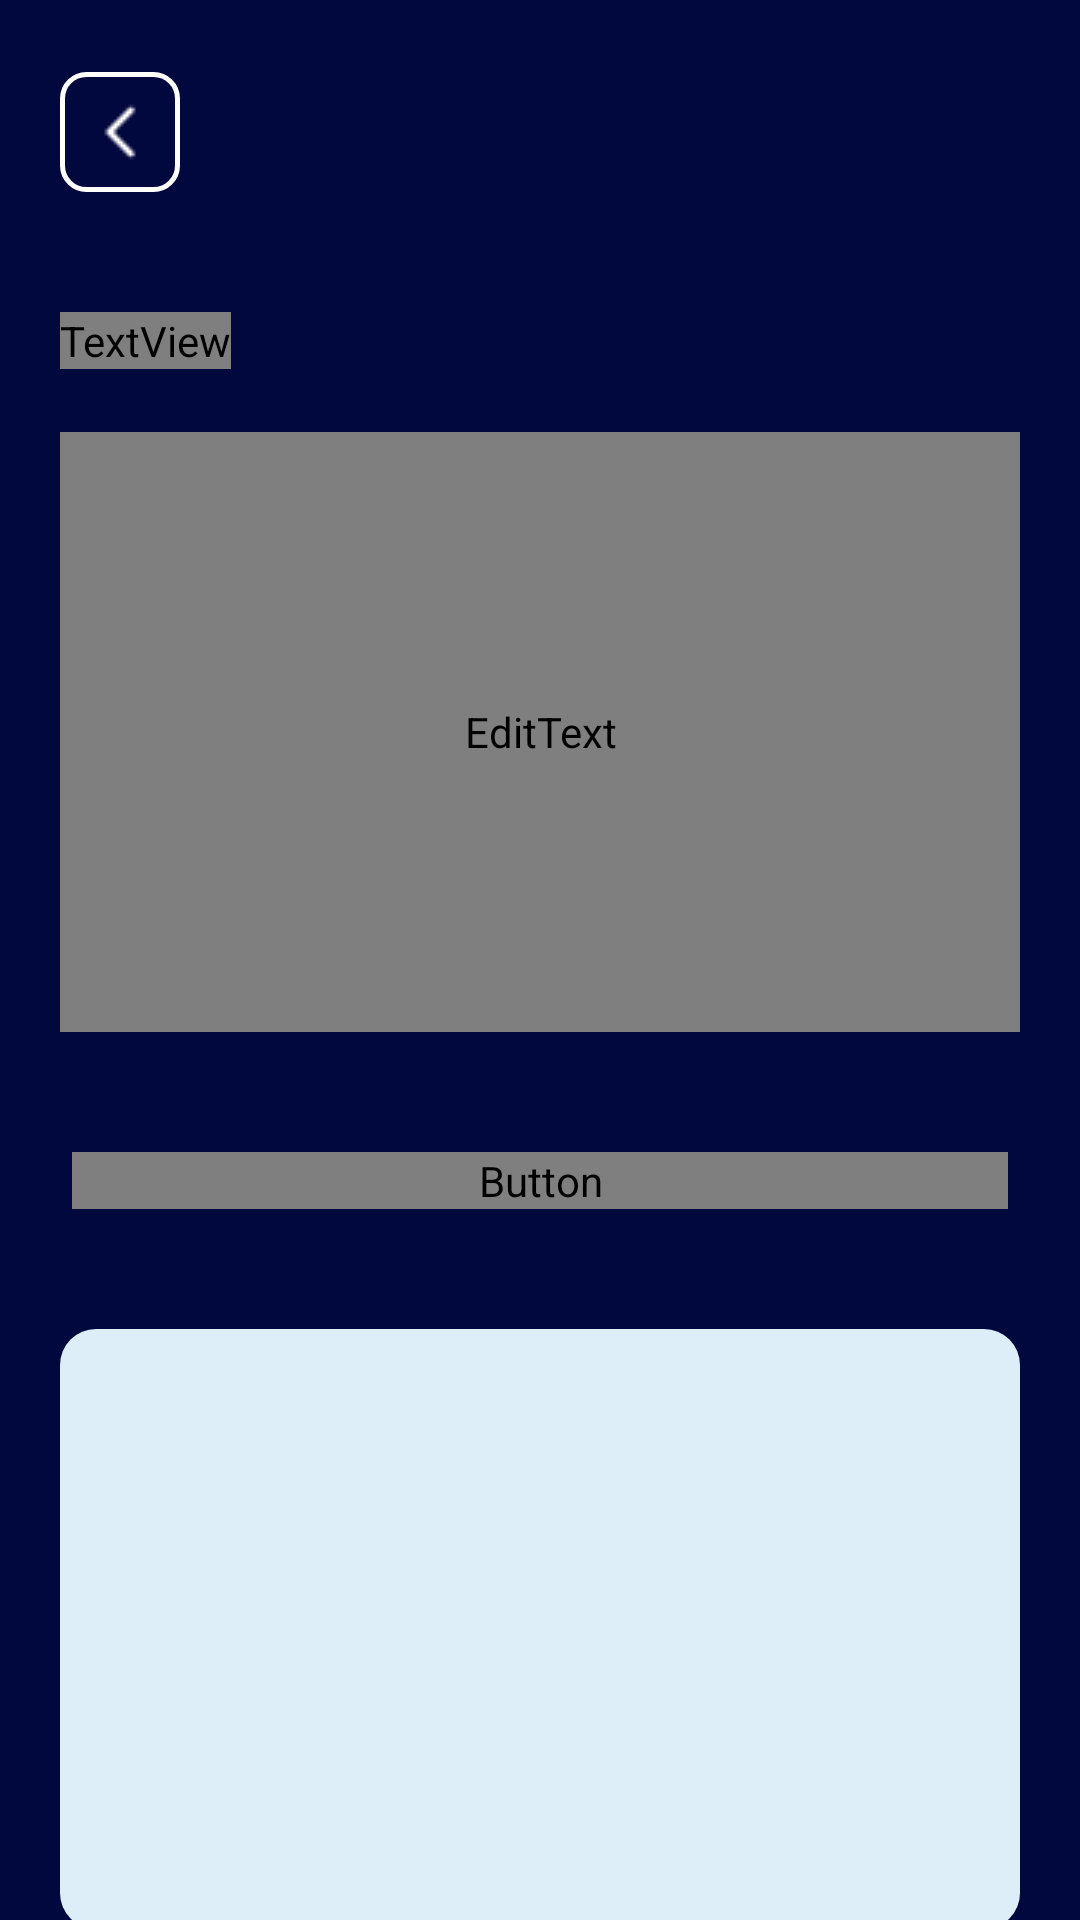

Locate icon controls on the screen. Image size 1080×1920, boxes as (x1, y1, x2, y2).
back: (60, 72, 180, 192)
